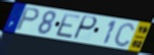1: (104, 21, 117, 46)
8: (36, 10, 57, 36)
C: (113, 22, 136, 48)
E: (55, 12, 82, 40)
P: (71, 15, 98, 42), (14, 6, 41, 32)
